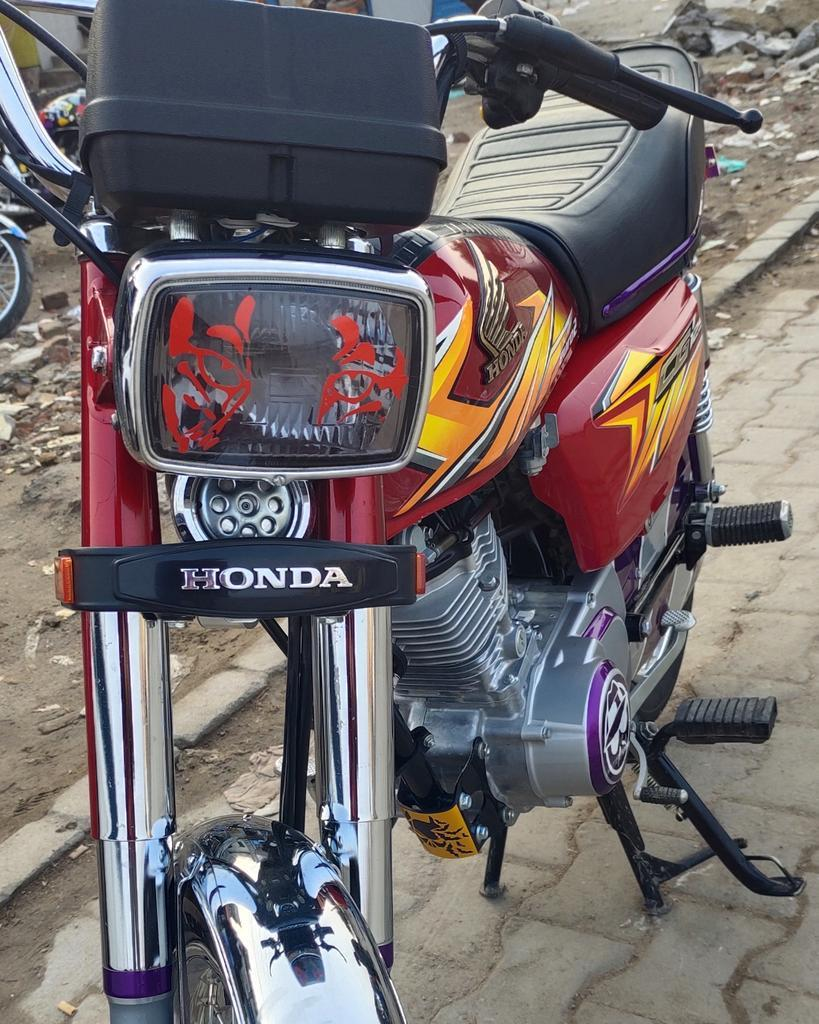bike: (4, 24, 797, 1024)
